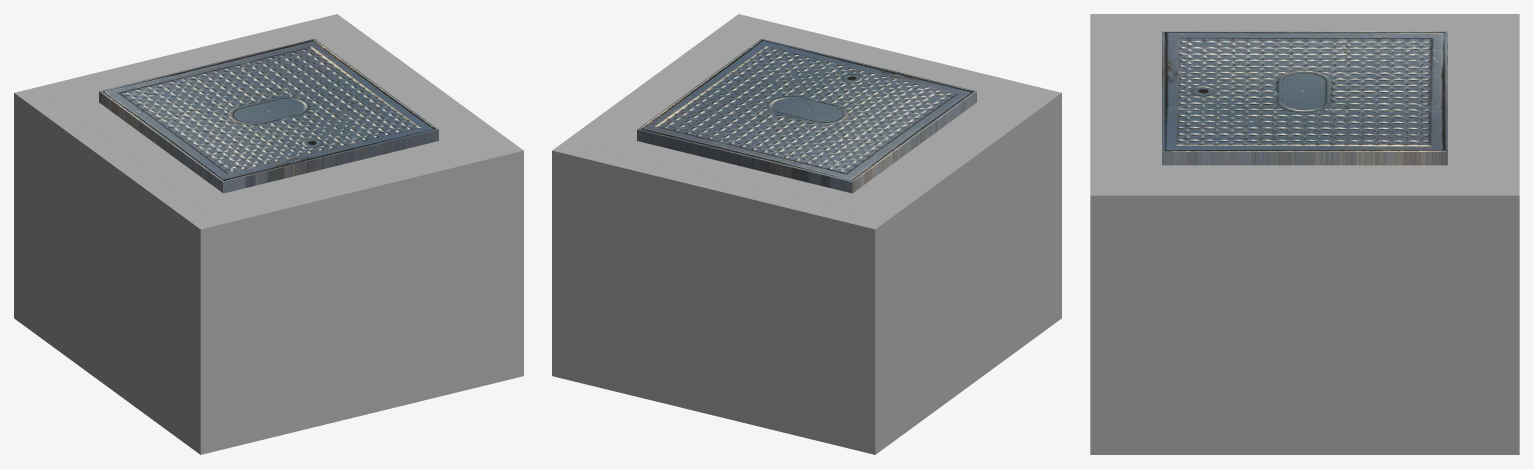
3 views of the same model, side by side, from view 1: azimuth 30°, elevation 25°; view 2: azimuth 150°, elevation 25°; view 3: azimuth 270°, elevation 25° (orthographic). The views are drawn at different scales.
Parts seen in each view (by area): view 1: fangxing_zhengti_2.001; view 2: fangxing_zhengti_2.001; view 3: fangxing_zhengti_2.001.
Part boxes in pixels (x1,y1,x2,y2): fangxing_zhengti_2.001: (14, 14, 523, 454); fangxing_zhengti_2.001: (552, 14, 1061, 454); fangxing_zhengti_2.001: (1090, 14, 1519, 454).
Bounding box in the file's own units: 1.5 × 1.05 × 1.5.
2 materials, 1 textured.
